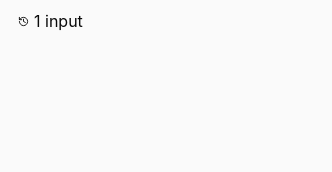
Test case: InputsStatusItem › closes on Esc
The image size is (332, 172).
Click the button with aria-label "Inputs:": point(50, 21) [12, 12, 89, 30]
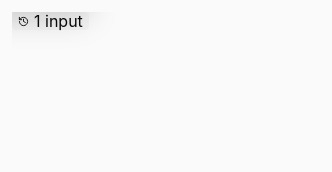
Press Escape
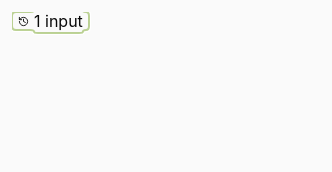
Expected: the dialog "Inputs" is gone
